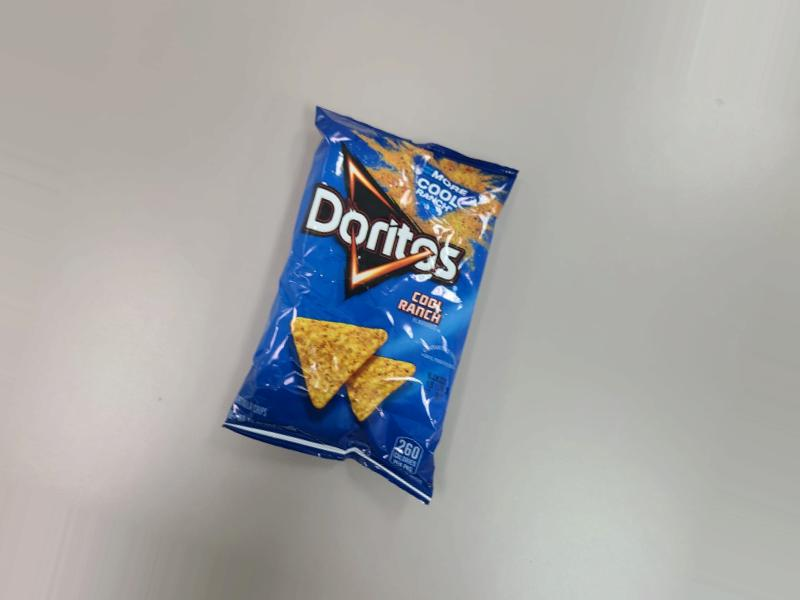doritos: (224, 98, 519, 526)
